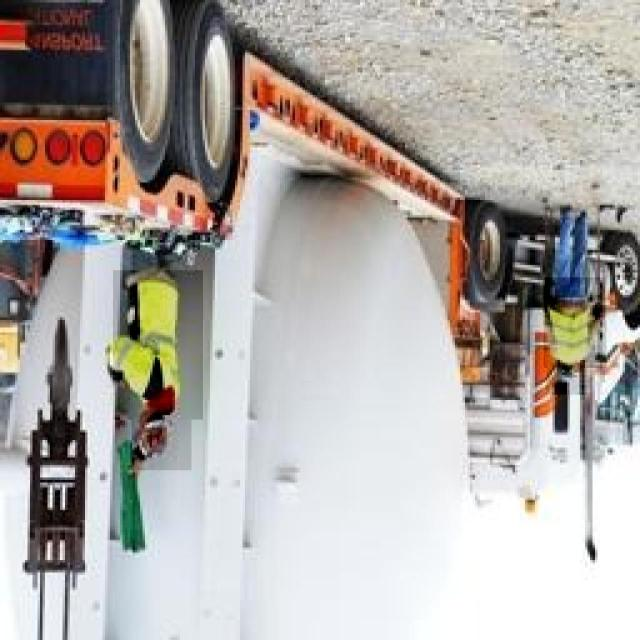Helmet: (114, 270, 204, 420), (544, 277, 606, 368), (132, 395, 192, 470), (547, 357, 587, 395)
